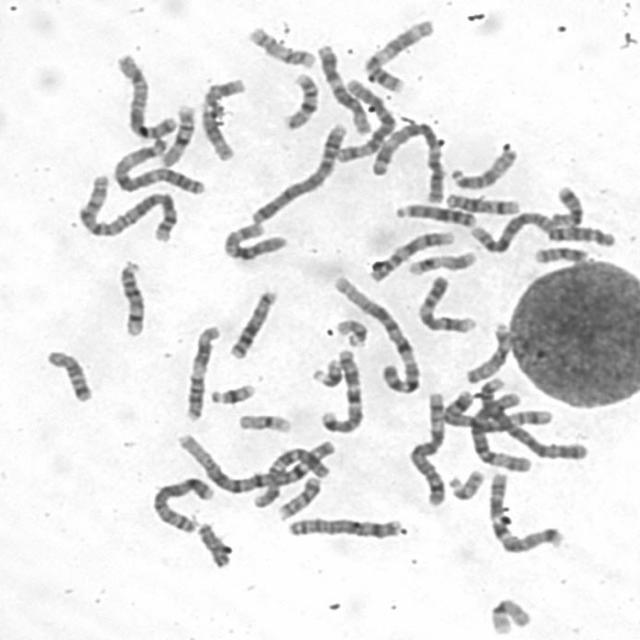A1: (328, 271, 424, 396), (172, 428, 334, 493)
A2: (73, 170, 181, 243), (465, 208, 617, 255)
A3: (366, 117, 447, 206), (107, 135, 207, 196)
B4: (246, 117, 350, 227), (472, 372, 591, 462)
B5: (434, 386, 554, 433), (404, 387, 450, 508)
C10: (247, 437, 336, 510), (217, 217, 289, 264)
C11: (358, 13, 436, 92), (180, 319, 223, 422)
C12: (311, 38, 373, 136), (194, 73, 248, 163)
C6: (465, 385, 536, 474), (332, 74, 398, 164)
C7: (482, 466, 567, 555), (315, 344, 366, 434)
C8: (147, 472, 217, 534), (282, 512, 404, 541)
C9: (364, 226, 456, 283), (412, 270, 478, 335)
D13: (223, 284, 280, 360), (390, 199, 478, 229)
D14: (111, 254, 148, 338), (440, 188, 522, 215)
D15: (444, 142, 519, 191), (461, 318, 514, 386)
E16: (154, 99, 198, 169), (278, 67, 320, 132)
E17: (243, 21, 318, 71), (402, 247, 480, 277)
E18: (40, 344, 94, 404), (546, 181, 585, 229)
F19: (485, 594, 534, 636), (233, 408, 293, 434)
F20: (273, 472, 324, 520), (529, 242, 591, 266)
G21: (204, 377, 257, 406), (306, 354, 344, 389)
G22: (443, 465, 486, 502), (330, 313, 370, 349)
X: (111, 48, 178, 141)
Y: (192, 517, 232, 568)
